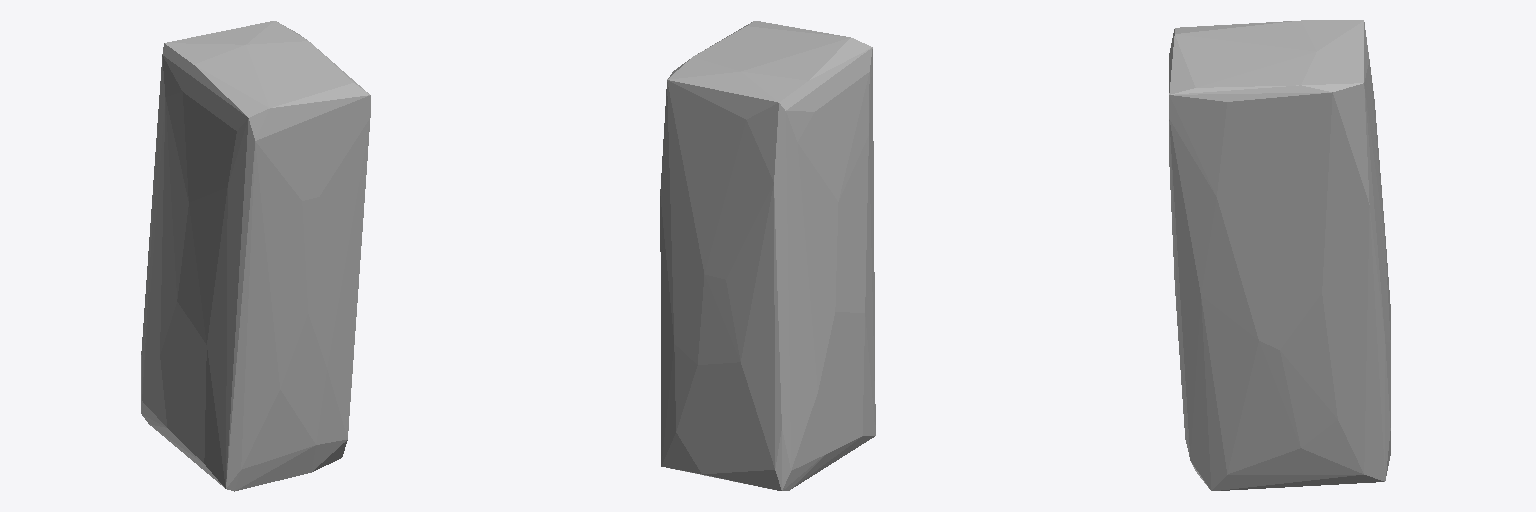
URDF robot description (root):
<robot name="root">
  <link name="link_kit~BlueSaltCube_800_tex_convex_piece_0">
    <inertial>
      <origin rpy="0 0 0" xyz="0 0 0"/>
      <mass value="1.02E+00"/>
      <inertia ixx="1.47E-03" ixy="-8.31E-07" ixz="3.29E-05" iyy="1.38E-03" iyz="-5.40E-05" izz="4.16E-04"/>
    </inertial>
    <visual>
      <origin rpy="0 0 0" xyz="0 0 0"/>
      <geometry>
        <mesh filename="kit~BlueSaltCube_800_tex_convex_piece_0.obj" scale="1.0000E+00 1.0000E+00 1.0000E+00"/>
      </geometry>
      <material name="">
        <color rgba="7.50E-01 7.50E-01 7.50E-01 1"/>
      </material>
    </visual>
    <collision>
      <origin rpy="0 0 0" xyz="0 0 0"/>
      <geometry>
        <mesh filename="kit~BlueSaltCube_800_tex_convex_piece_0.obj" scale="1.0000E+00 1.0000E+00 1.0000E+00"/>
      </geometry>
    </collision>
  </link>
</robot>

--- Render facts (derived) ---
The picture shows the robot from 3 angles, left to right: view 1: azimuth 30°, elevation 25°; view 2: azimuth 150°, elevation 25°; view 3: azimuth 270°, elevation 25°; orthographic projection.
Model root with 1 links and 0 joints (none), rooted at link_kit~BlueSaltCube_800_tex_convex_piece_0, posed every joint at zero.
Links seen in each view (by area): view 1: link_kit~BlueSaltCube_800_tex_convex_piece_0; view 2: link_kit~BlueSaltCube_800_tex_convex_piece_0; view 3: link_kit~BlueSaltCube_800_tex_convex_piece_0.
Link boxes in pixels (bbox=[...]): link_kit~BlueSaltCube_800_tex_convex_piece_0: bbox=[141, 21, 370, 491]; link_kit~BlueSaltCube_800_tex_convex_piece_0: bbox=[660, 21, 875, 490]; link_kit~BlueSaltCube_800_tex_convex_piece_0: bbox=[1169, 20, 1390, 490].
Size in the robot's own frame: 0.047 by 0.0598 by 0.1238 metres.
Meshes: 1 distinct files referenced, 1 mesh visuals loaded (1 OBJ).
